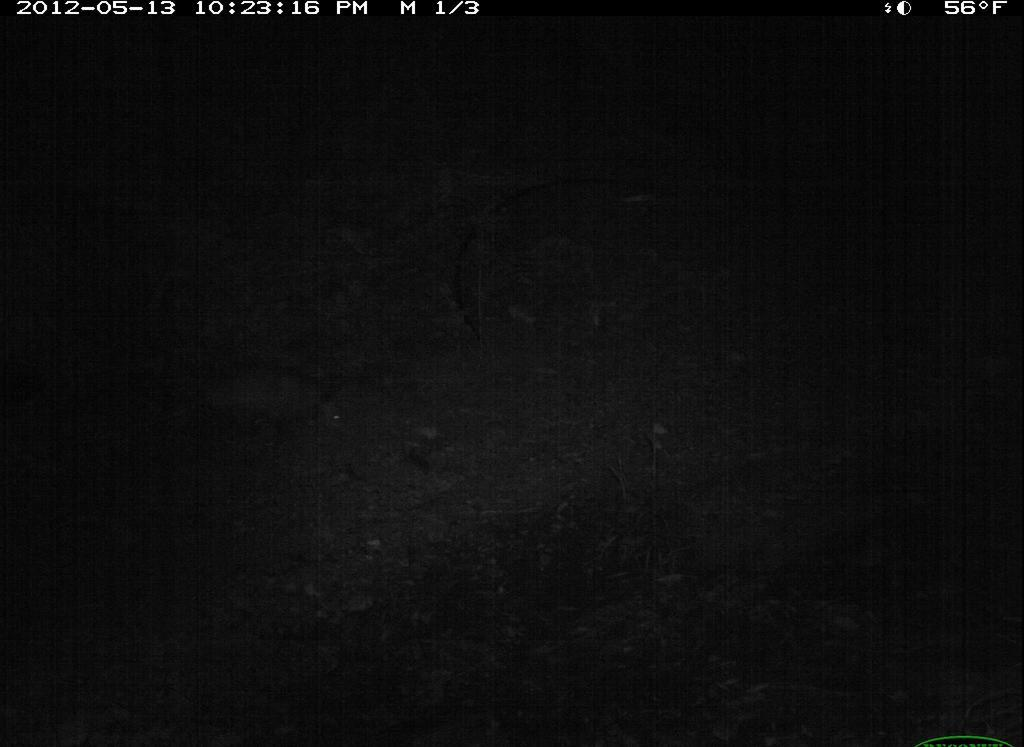opossum: (189, 355, 354, 449)
